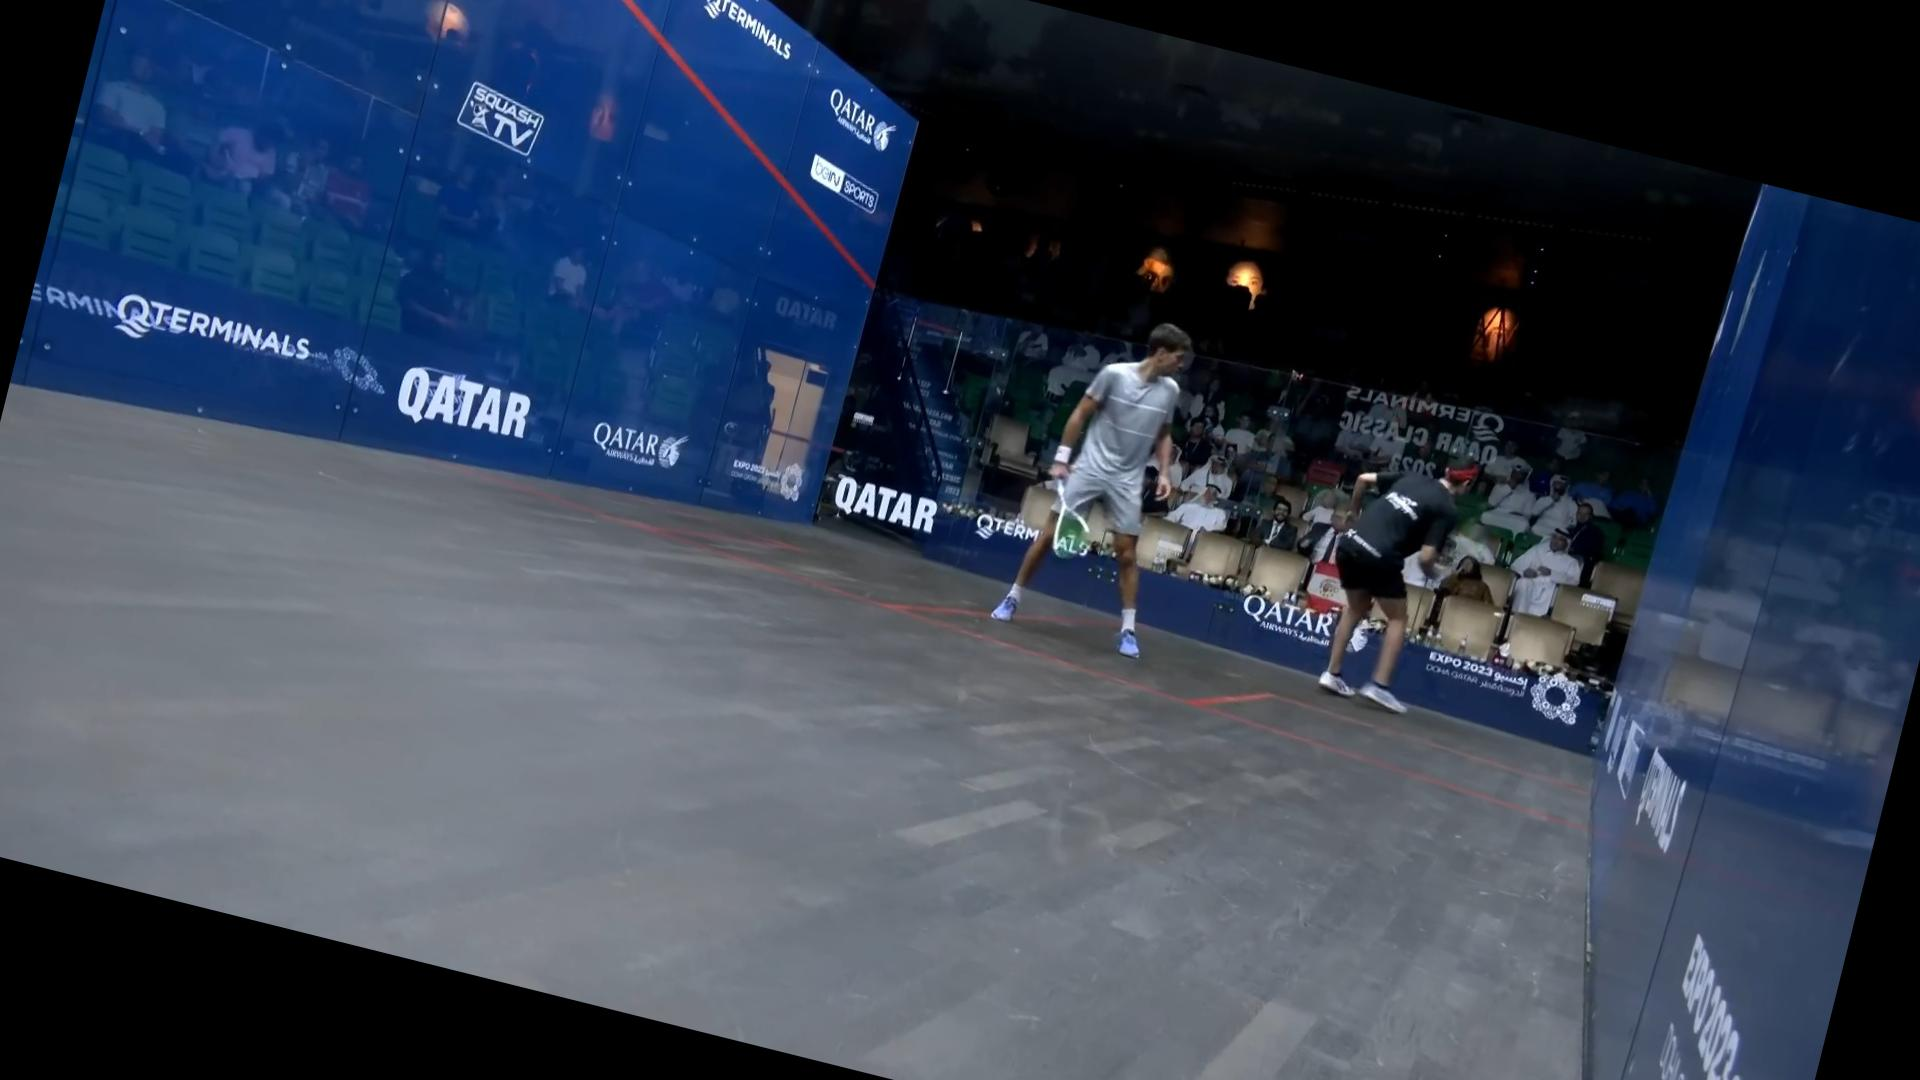Racket: (1046, 476, 1109, 563)
